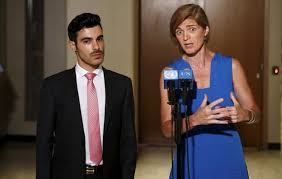middle_eastern_Female: (175, 16, 207, 54)
